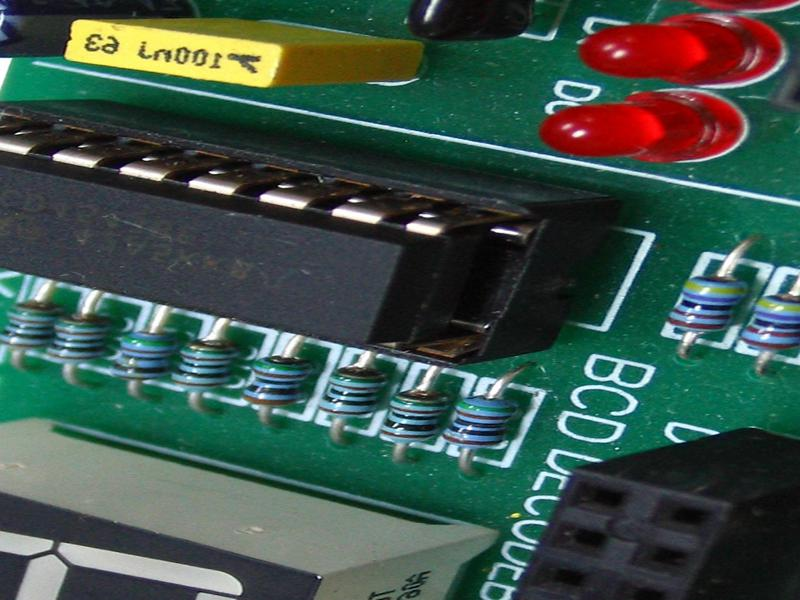LED: (536, 88, 745, 166), (579, 12, 788, 88)
Resistor: (660, 267, 750, 343), (236, 344, 321, 415), (439, 385, 518, 460), (374, 383, 454, 453), (103, 323, 184, 392), (168, 329, 242, 404), (313, 358, 386, 431), (42, 306, 113, 381), (736, 279, 799, 362), (1, 296, 62, 360)
